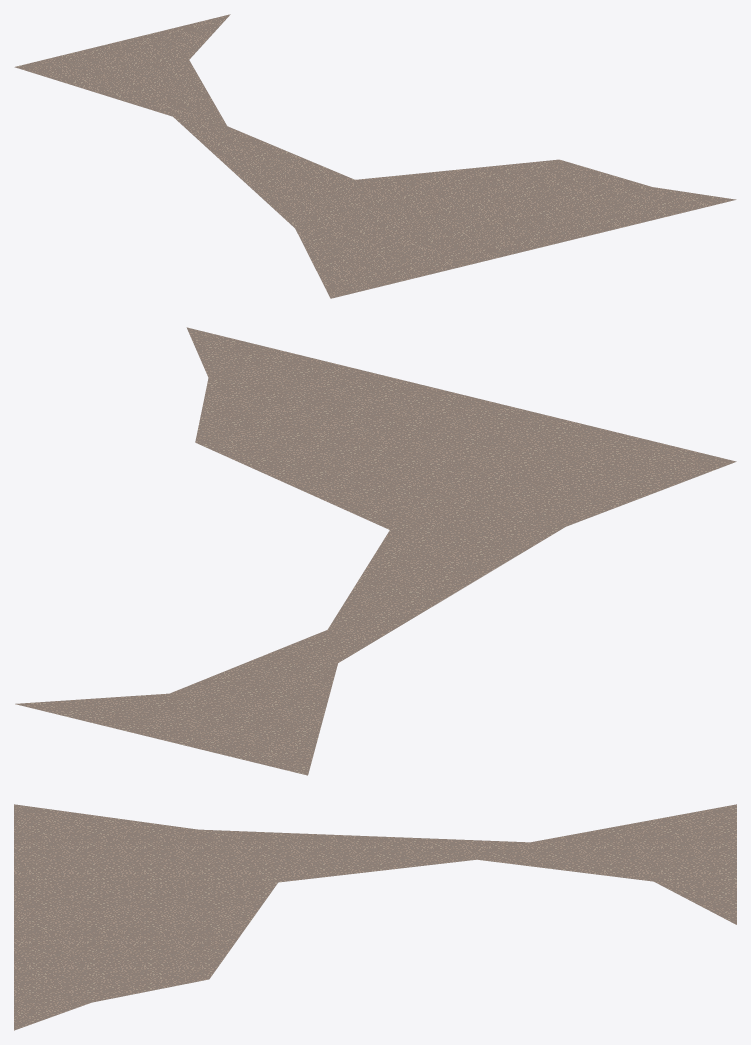
Rendered from kd_stage_136599_19_42.glb.
3 views of the same model, one above another, from view 1: azimuth 30°, elevation 25°; view 2: azimuth 150°, elevation 25°; view 3: azimuth 270°, elevation 25° (orthographic). The views are drawn at different scales.
Visible parts, largest first — view 1: kd_stage_136599_19_42; view 2: kd_stage_136599_19_42; view 3: kd_stage_136599_19_42.
Boxes of the visible parts, x1,y1,x2,y2 form: kd_stage_136599_19_42: (14, 14, 736, 298); kd_stage_136599_19_42: (15, 327, 736, 775); kd_stage_136599_19_42: (14, 804, 736, 1030).
Bounding box in the file's own units: 3.58 × 4.77e-07 × 4.83.
1 material, 1 textured.
